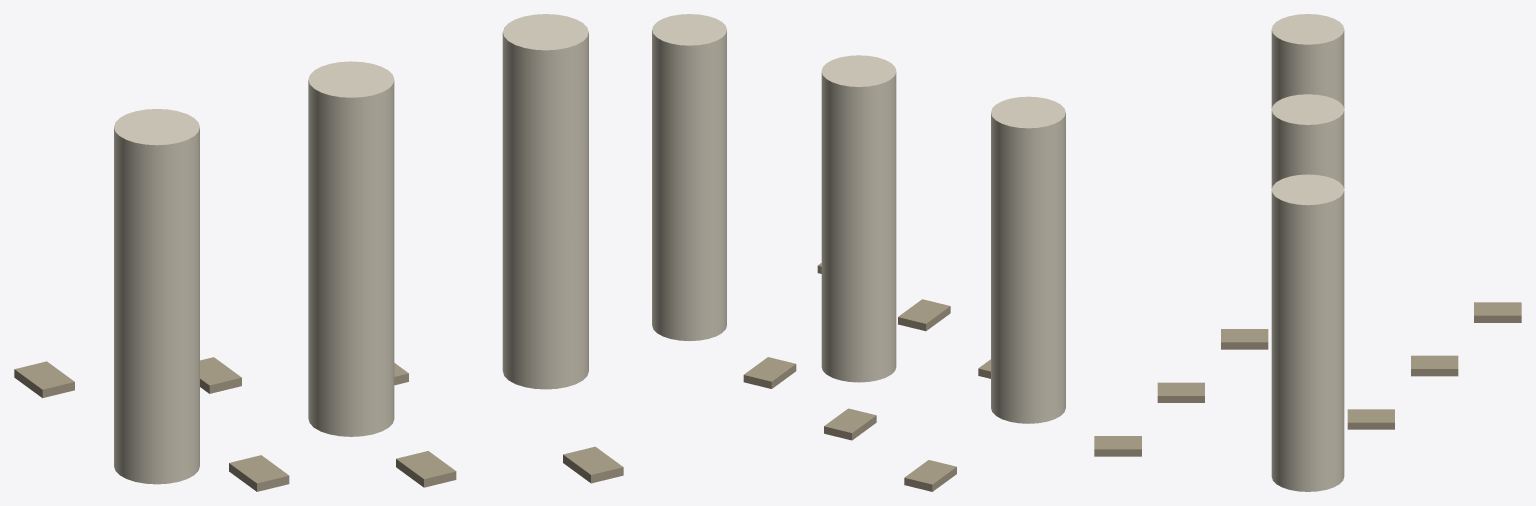
Rendered from paper.glb.
The picture shows the model from 3 angles, left to right: view 1: azimuth 30°, elevation 25°; view 2: azimuth 150°, elevation 25°; view 3: azimuth 270°, elevation 25°; orthographic projection. The views are drawn at different scales.
Parts seen in each view (by area): view 1: CollectedPaperCore_2, CollectedPaperCore_1, CollectedPaperCore_0, DrillDust_1, DrillDust_4, DrillDust_0, DrillDust_5, DrillDust_3; view 2: CollectedPaperCore_1, CollectedPaperCore_0, CollectedPaperCore_2, DrillDust_6, DrillDust_3, DrillDust_1, DrillDust_0; view 3: CollectedPaperCore_2, CollectedPaperCore_0, CollectedPaperCore_1, DrillDust_3, DrillDust_0, DrillDust_4, DrillDust_5, DrillDust_6, DrillDust_1.
Boxes of the visible parts, x1,y1,x2,y2 form: CollectedPaperCore_2: (502, 14, 588, 389); CollectedPaperCore_1: (308, 61, 394, 436); CollectedPaperCore_0: (114, 109, 199, 484); DrillDust_1: (396, 451, 456, 487); DrillDust_4: (563, 446, 623, 483); DrillDust_0: (14, 361, 74, 398); DrillDust_5: (229, 455, 289, 491); DrillDust_3: (200, 357, 241, 393); CollectedPaperCore_1: (821, 55, 896, 382); CollectedPaperCore_0: (991, 96, 1065, 423); CollectedPaperCore_2: (652, 14, 726, 341); DrillDust_6: (743, 357, 796, 388); DrillDust_3: (824, 408, 876, 440); DrillDust_1: (898, 299, 950, 331); DrillDust_0: (904, 460, 956, 491); CollectedPaperCore_2: (1271, 174, 1344, 491); CollectedPaperCore_0: (1271, 14, 1344, 108); CollectedPaperCore_1: (1271, 94, 1344, 188); DrillDust_3: (1411, 355, 1458, 376); DrillDust_0: (1474, 302, 1521, 322); DrillDust_4: (1094, 436, 1141, 456); DrillDust_5: (1221, 329, 1268, 349); DrillDust_6: (1347, 409, 1394, 429); DrillDust_1: (1157, 382, 1204, 402).
Bounding box in the file's own units: 0.0286 × 0.02 × 0.027.
